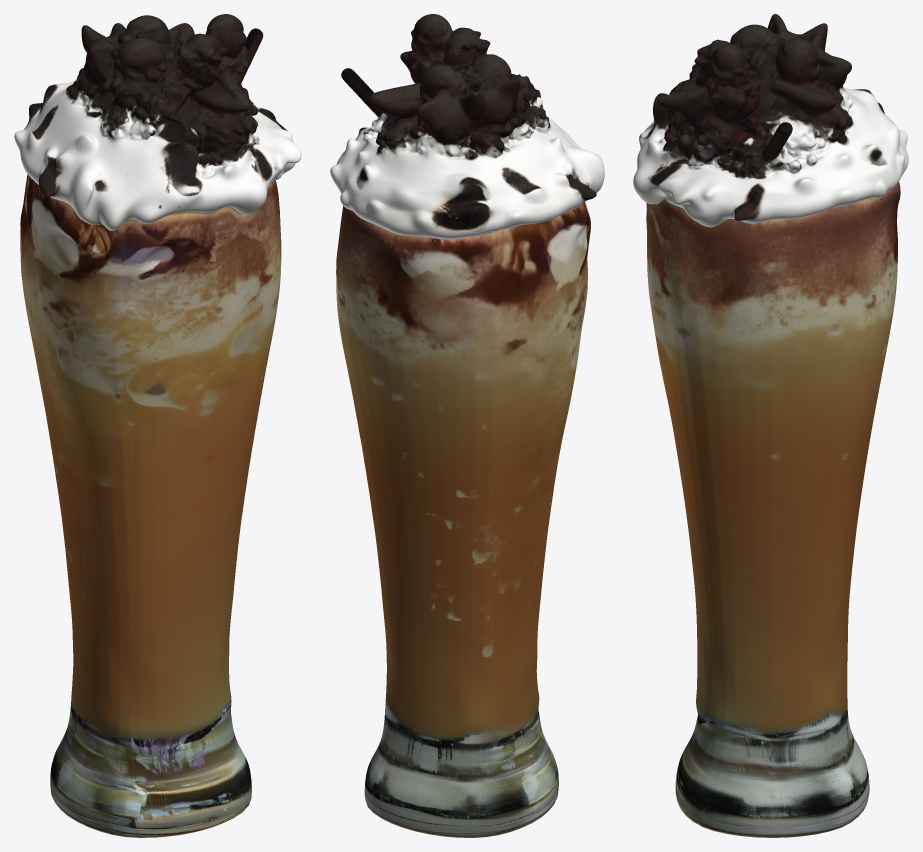
Rendered from Cold_Coffee.glb.
3 views of the same model, side by side, from view 1: azimuth 30°, elevation 25°; view 2: azimuth 150°, elevation 25°; view 3: azimuth 270°, elevation 25° (orthographic). The views are drawn at different scales.
Size of the model in its own units: 0.6214 by 1.9 by 0.6082.
1 material, 1 textured.
